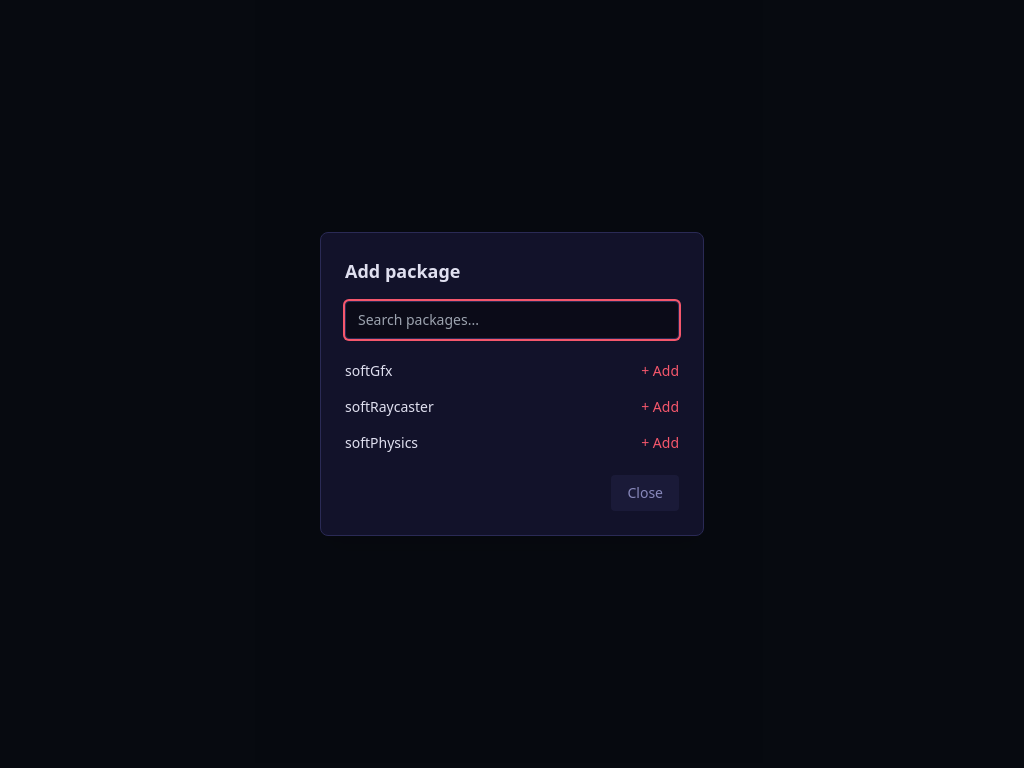
filters packages by search input
Type "Physics" into the field with placeholder "Search packages..." at [512, 320], box [345,301,679,339]
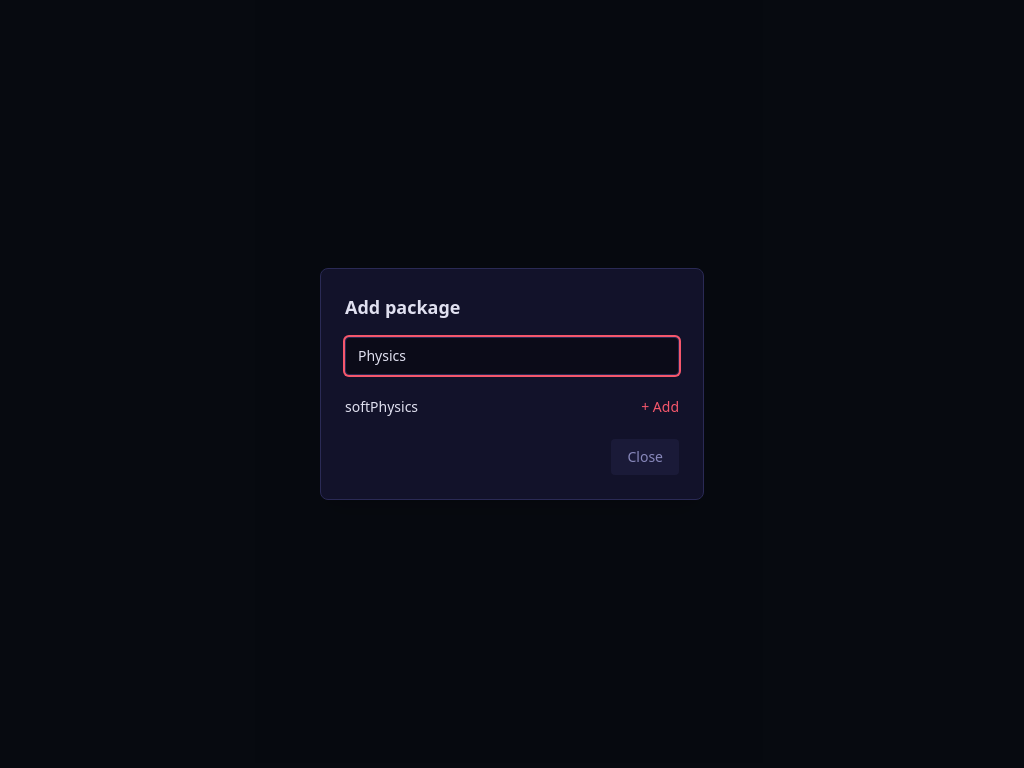
Expected: the text "softPhysics" is shown, [345,397,418,417]
Result: the text "softGfx" is gone
